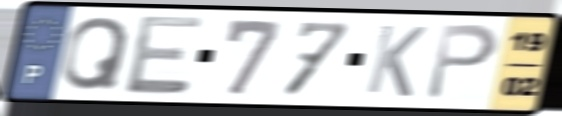7: (281, 19, 353, 99), (222, 17, 285, 98)
E: (122, 13, 208, 97)
K: (362, 22, 431, 100)
P: (422, 22, 502, 103)
Q: (58, 14, 133, 94)
